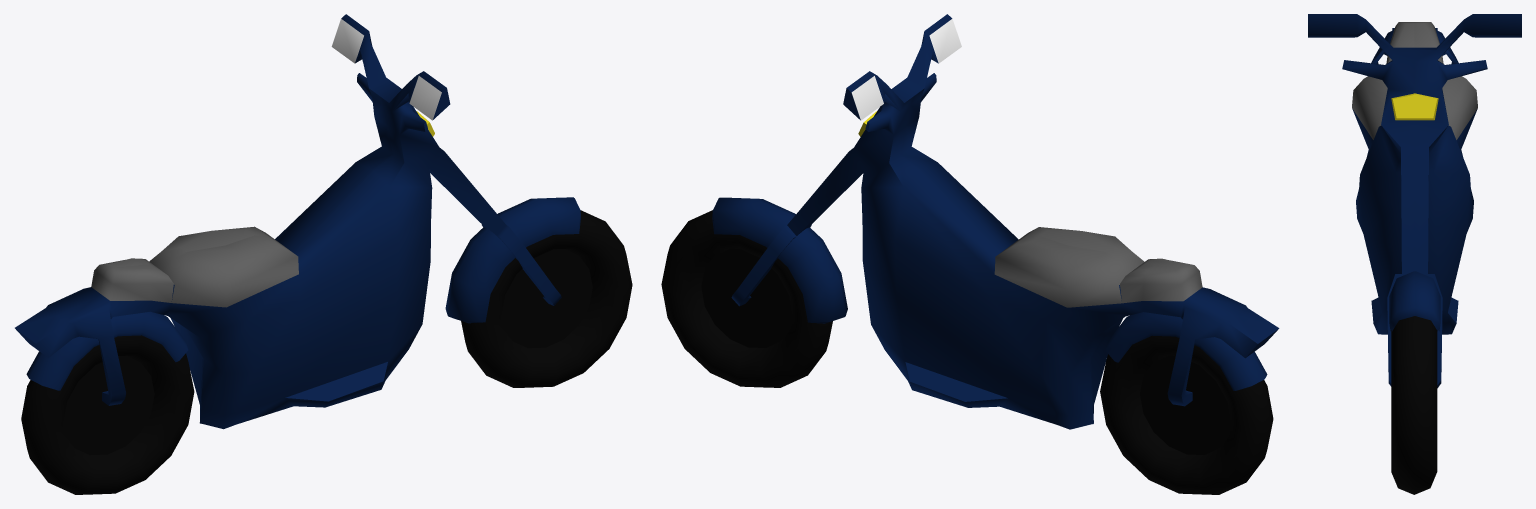
File: Motorbike.fbx
The picture shows the model from 3 angles, left to right: view 1: azimuth 30°, elevation 25°; view 2: azimuth 150°, elevation 25°; view 3: azimuth 270°, elevation 25°; orthographic projection. The views are drawn at different scales.
Visible parts, largest first — view 1: Body, Rear_Wheel, Front_Wheel; view 2: Body, Rear_Wheel, Front_Wheel; view 3: Body, Front_Wheel.
Part boxes in pixels (<box>): Body: <box>15,14,580,429</box>; Rear_Wheel: <box>21,335,194,494</box>; Front_Wheel: <box>461,210,632,387</box>; Body: <box>712,14,1279,429</box>; Rear_Wheel: <box>1100,335,1273,494</box>; Front_Wheel: <box>661,210,832,387</box>; Body: <box>1308,14,1521,388</box>; Front_Wheel: <box>1391,316,1437,494</box>.
Bounding box in the file's own units: 259 × 152 × 74.48.
